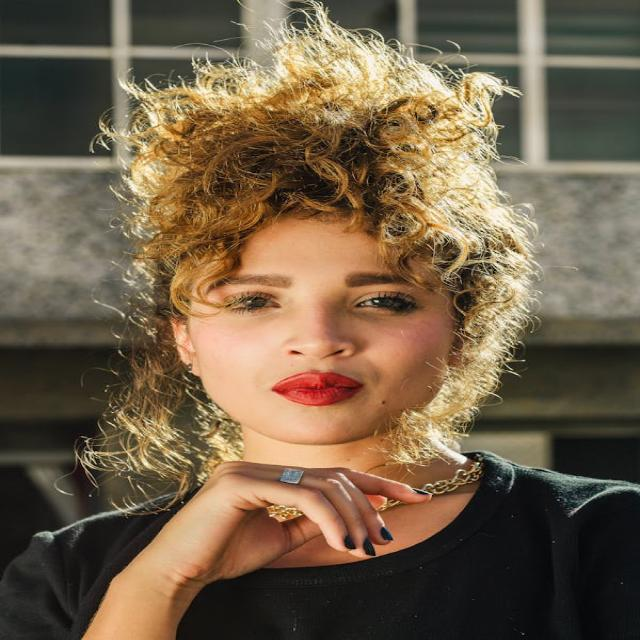no_mask: (118, 147, 512, 480)
